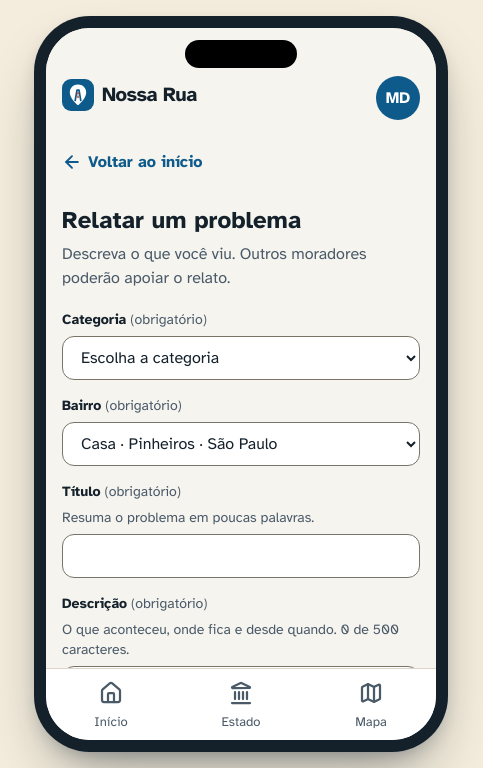
Test: Relatar um problema › categoria com foto opcional publica sem foto
Select "Iluminação pública" in the dropdown labelled "Categoria (obrigatório)": (241, 358) left=62, top=336, right=420, bottom=380
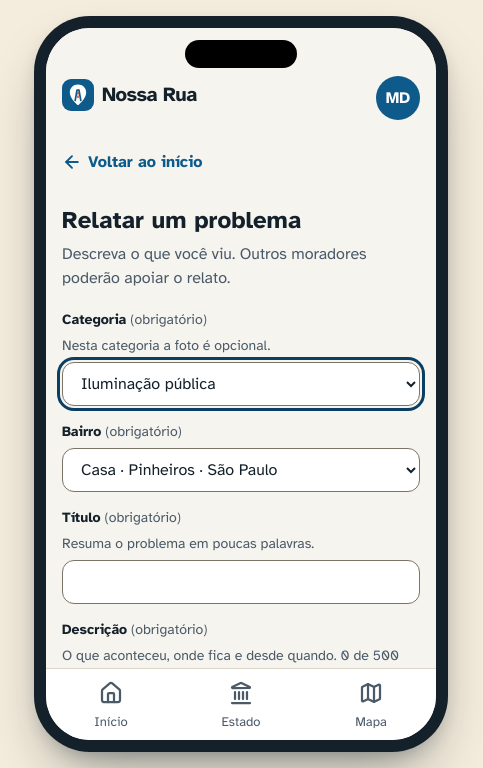
In the field labelled "Título (obrigatório)": (241, 582) left=62, top=560, right=420, bottom=604, type "Poste apagado há dias"
(page scrolled)
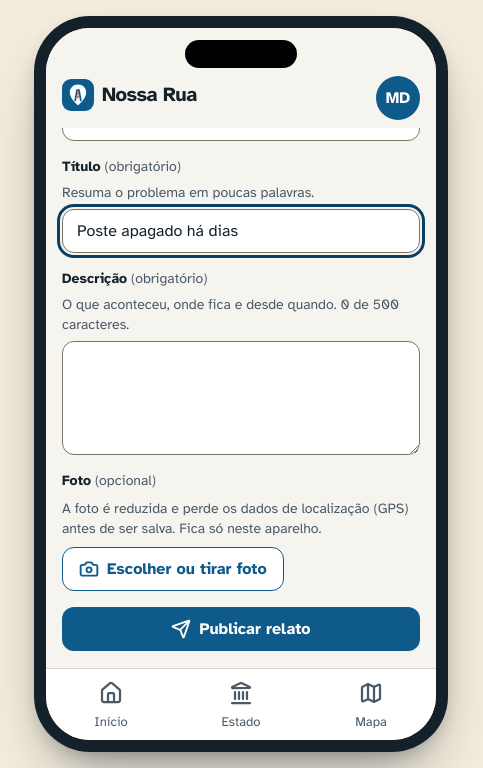
In the text box labelled "Descrição (obrigatório)": (241, 398) left=62, top=341, right=420, bottom=455, type "Uma cratera enorme abriu na avenida e os carros precisam desviar dela."
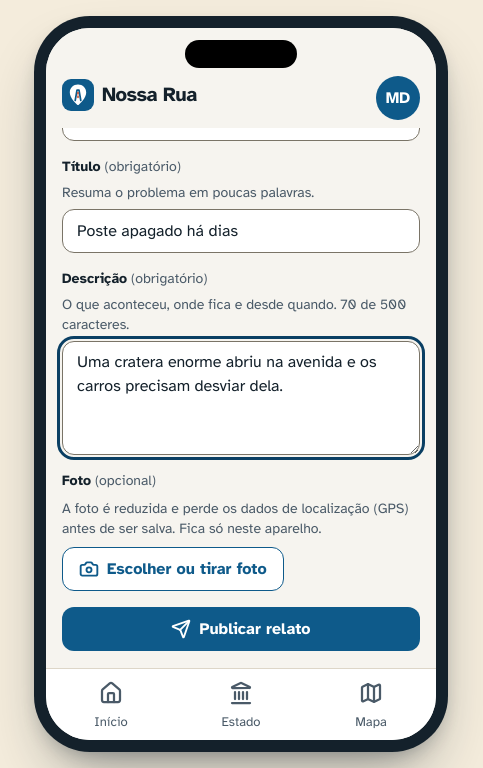
Click the button "Publicar relato": (241, 629) left=62, top=607, right=420, bottom=651
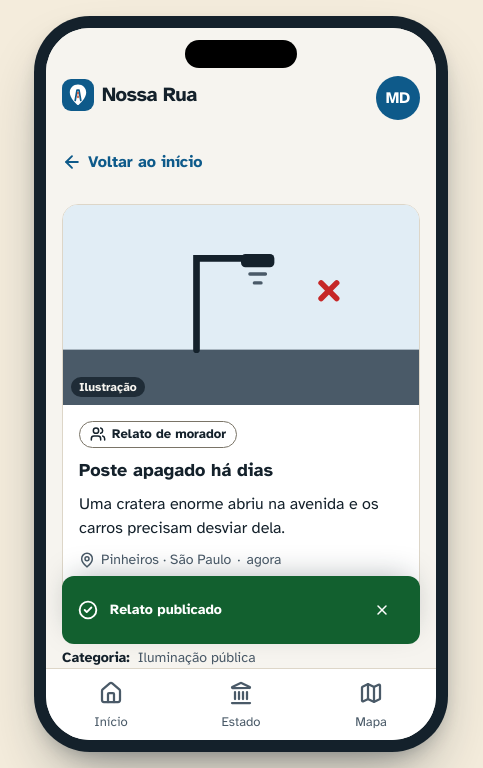
Result: the heading "Poste apagado há dias" is shown at left=79, top=458, right=273, bottom=480
